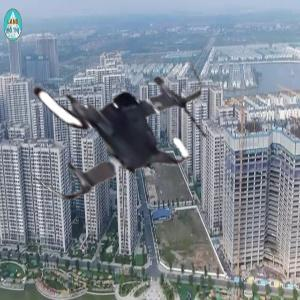drone: (9, 13, 216, 220)
